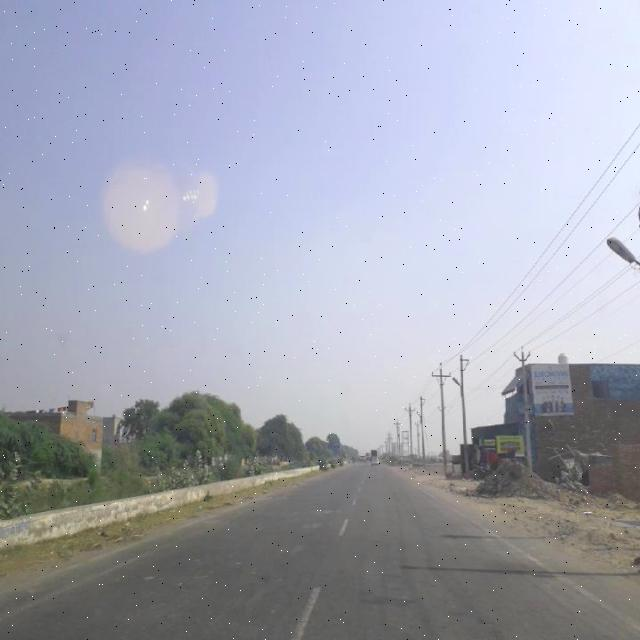D44: (270, 582, 326, 638)
